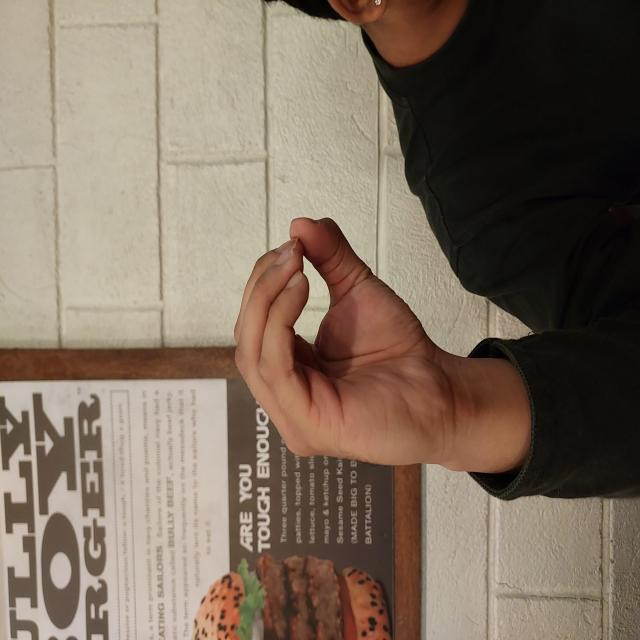O: (173, 232, 427, 458)
